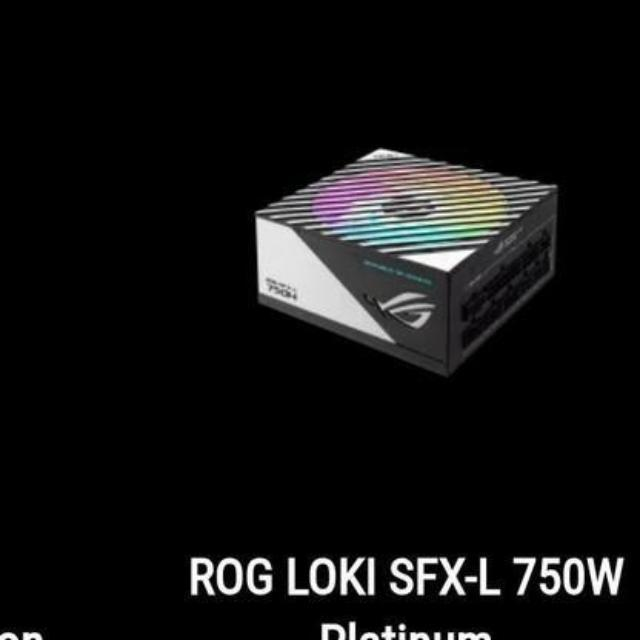PSU: (243, 127, 571, 390)
